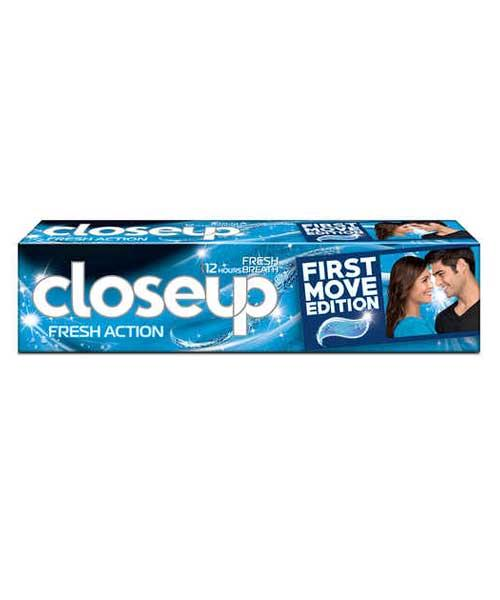CloseUp: (16, 220, 481, 353)
